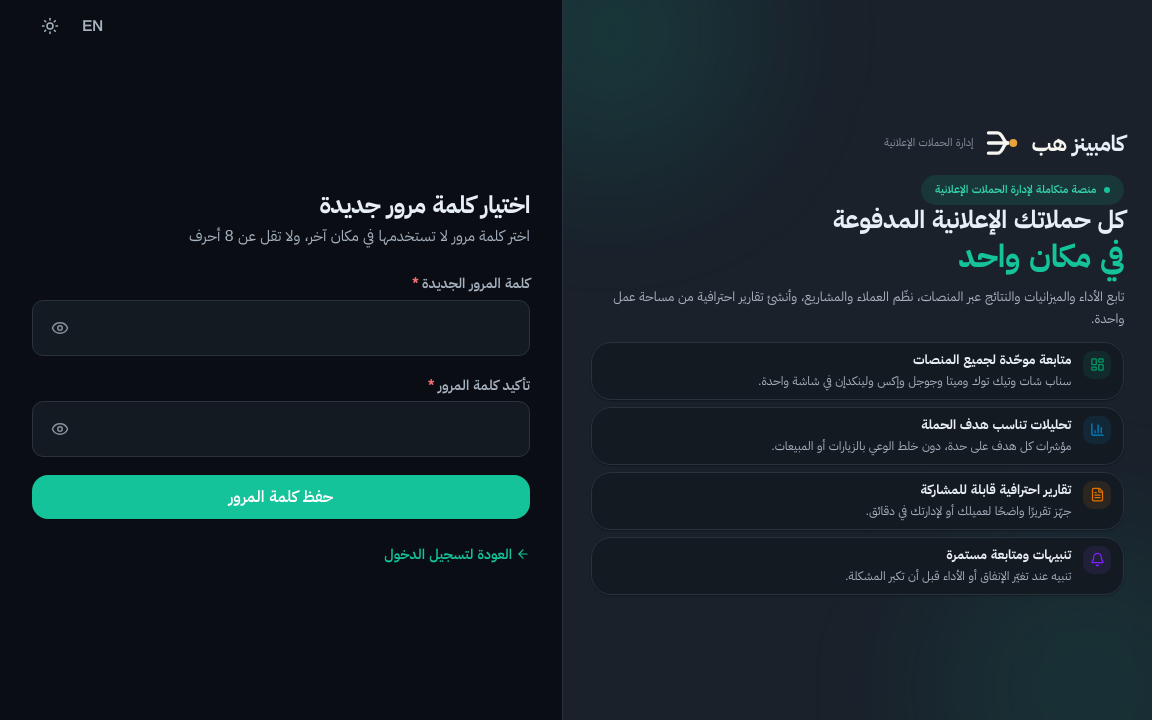
Test: the reset-password page › does not submit when the two passwords differ
In the password field labelled "كلمة المرور الجديدة *": x=281, y=328 [32,300,530,356], type "a-good-password"
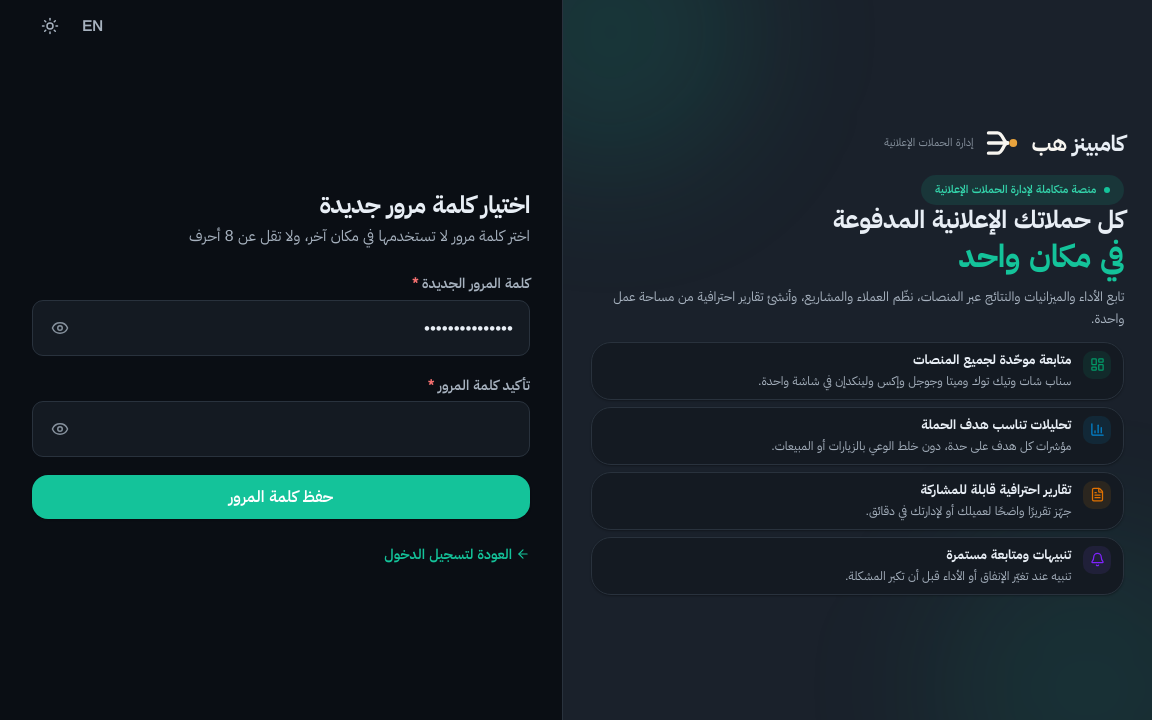
In the password field labelled "تأكيد كلمة المرور *": x=281, y=429 [32,401,530,457], type "something-else"
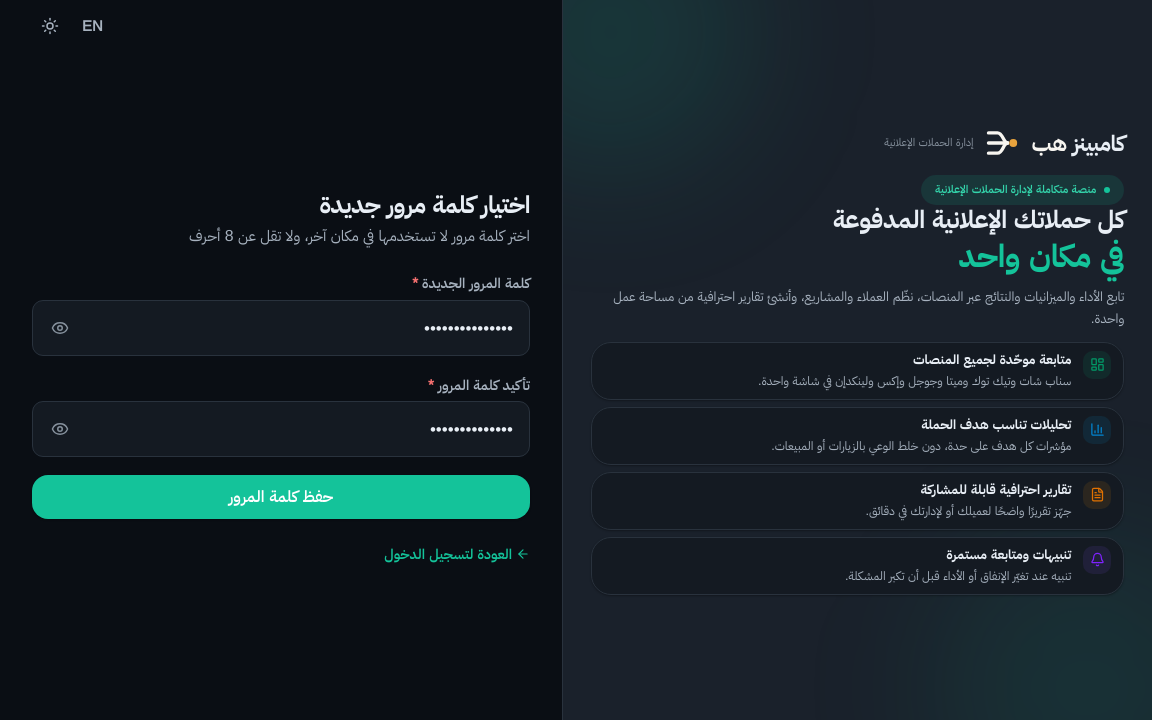
Click the button "حفظ كلمة المرور": x=281, y=497 [32,475,530,519]
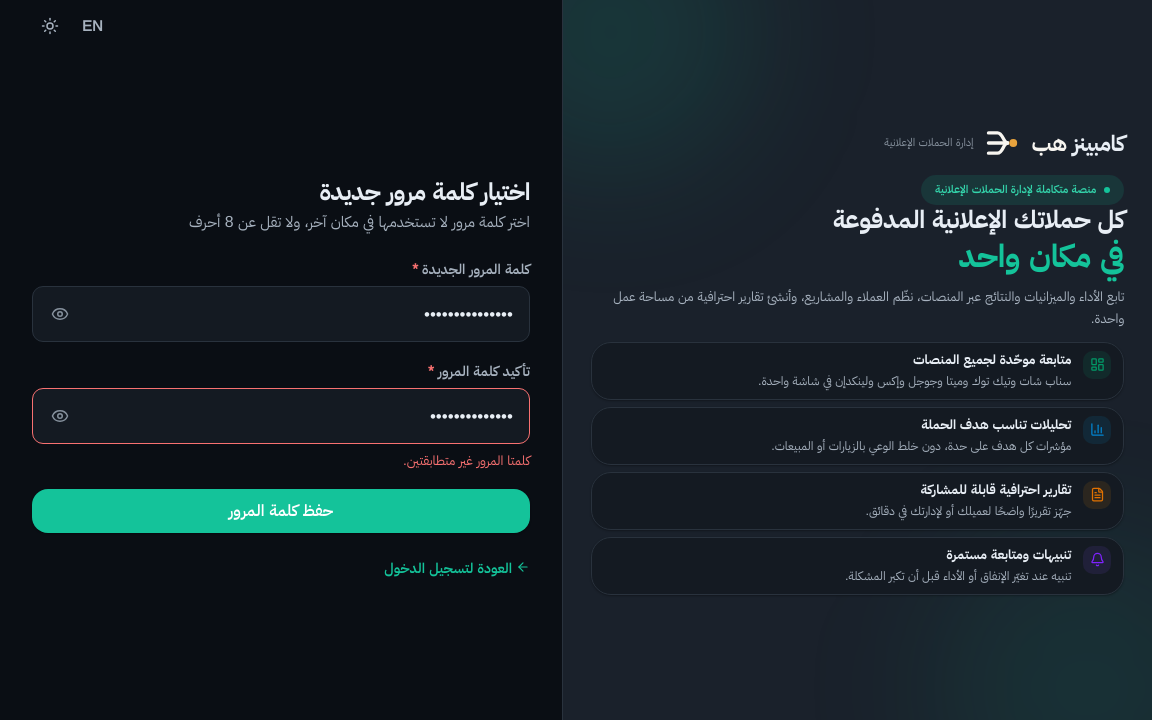
Now the text "كلمتا المرور غير متطابقتين." is shown, box [403,452,530,468]
